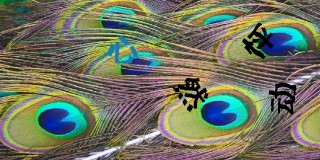动: (267, 81, 297, 115)
心: (104, 34, 140, 66)
怦: (241, 20, 276, 60)
然: (172, 75, 210, 113)
